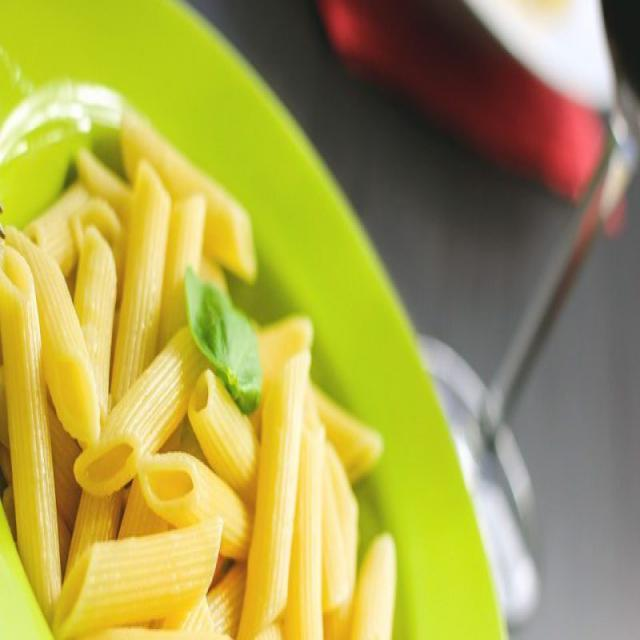Oil pasta: (4, 58, 446, 640)
